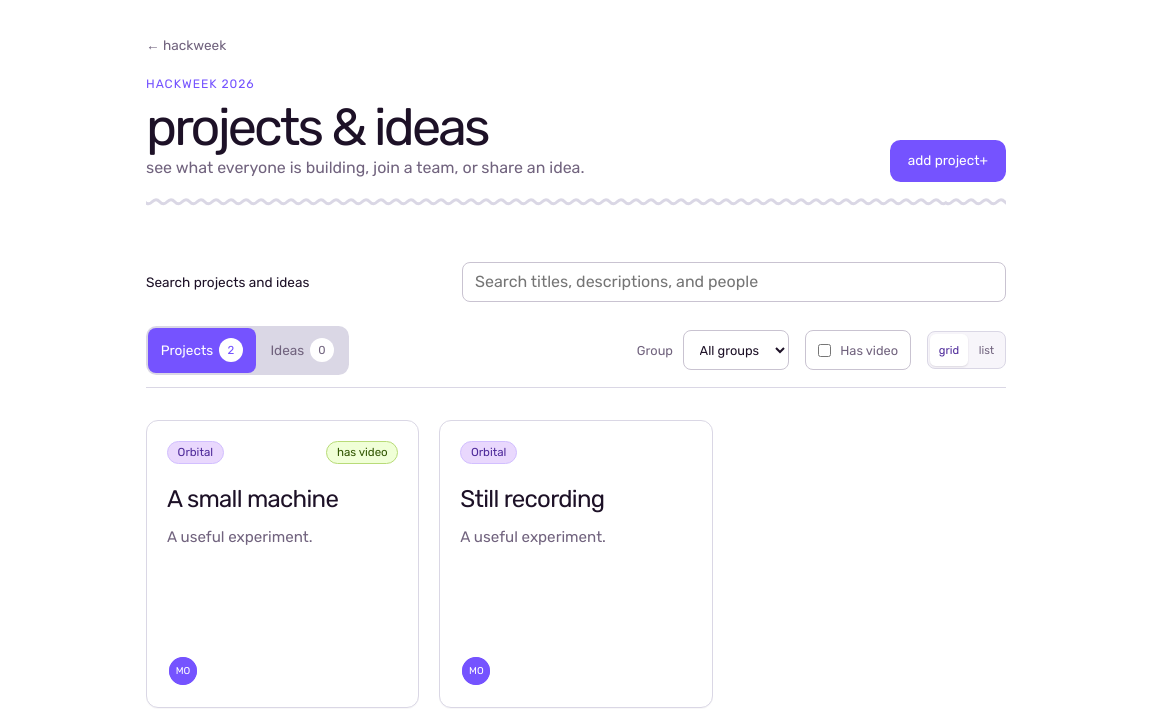
clickable project routes › marks playable videos in both views and preserves the video filter
This screenshot has width=1152, height=720.
Expected: the text "has video" is shown, [337,445,388,459]
Expected: the heading "Still recording" is shown, [460,485,604,513]
Click the button named "list view" at (986, 350), box [970,334,1003,366]
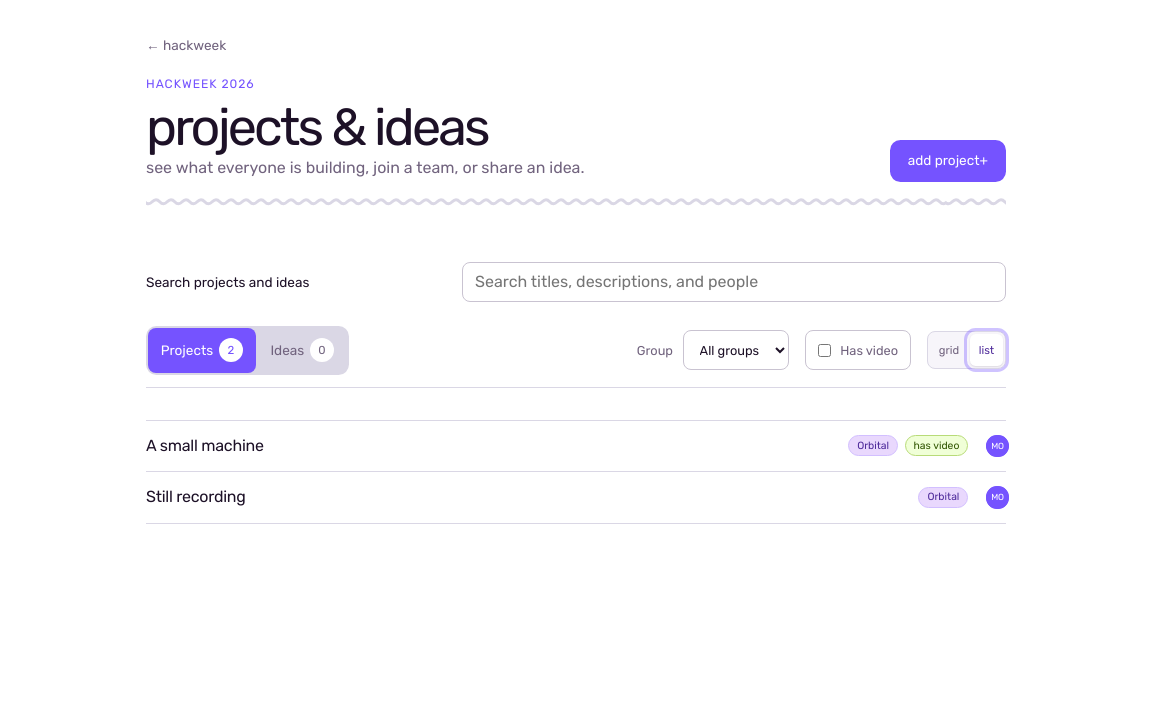
Now the text "has video" is shown, box [914,439,959,452]
Click the checkbox labelled "Has video" at (824, 350), box [818,344,831,357]
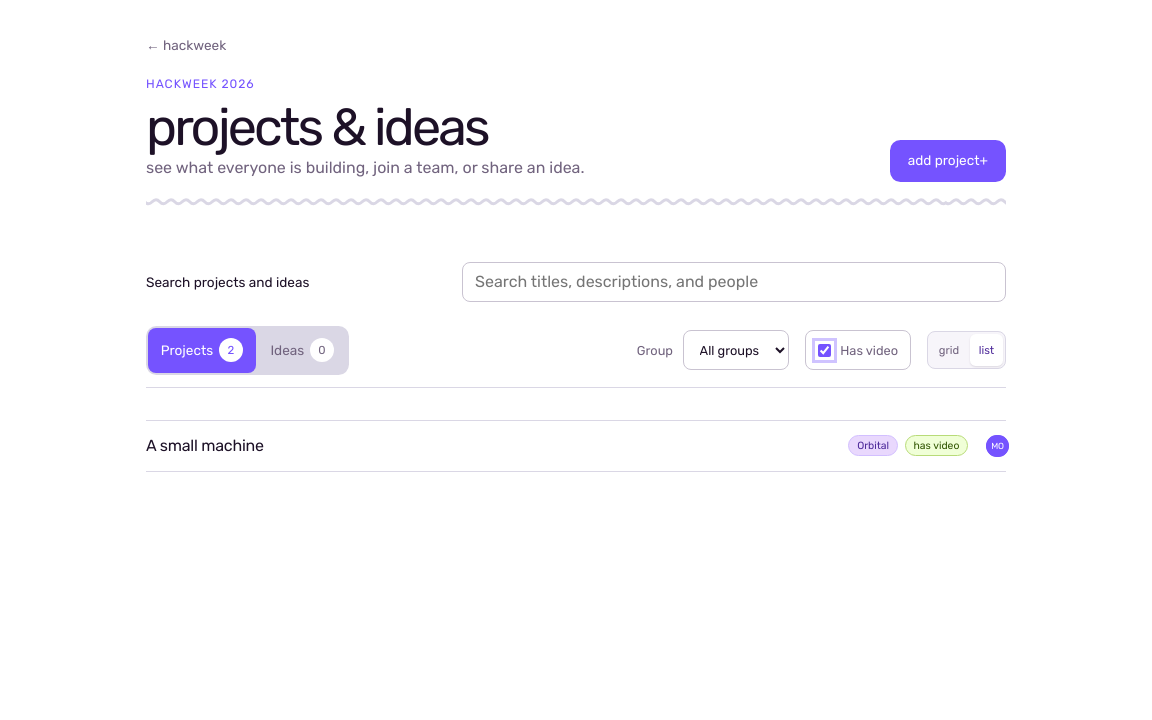
Expected: the heading "A small machine" is shown, [146,436,264,455]
Now the link "Still recording" is gone
Click the button "Ideas 0" at (302, 350), box [258,328,347,373]
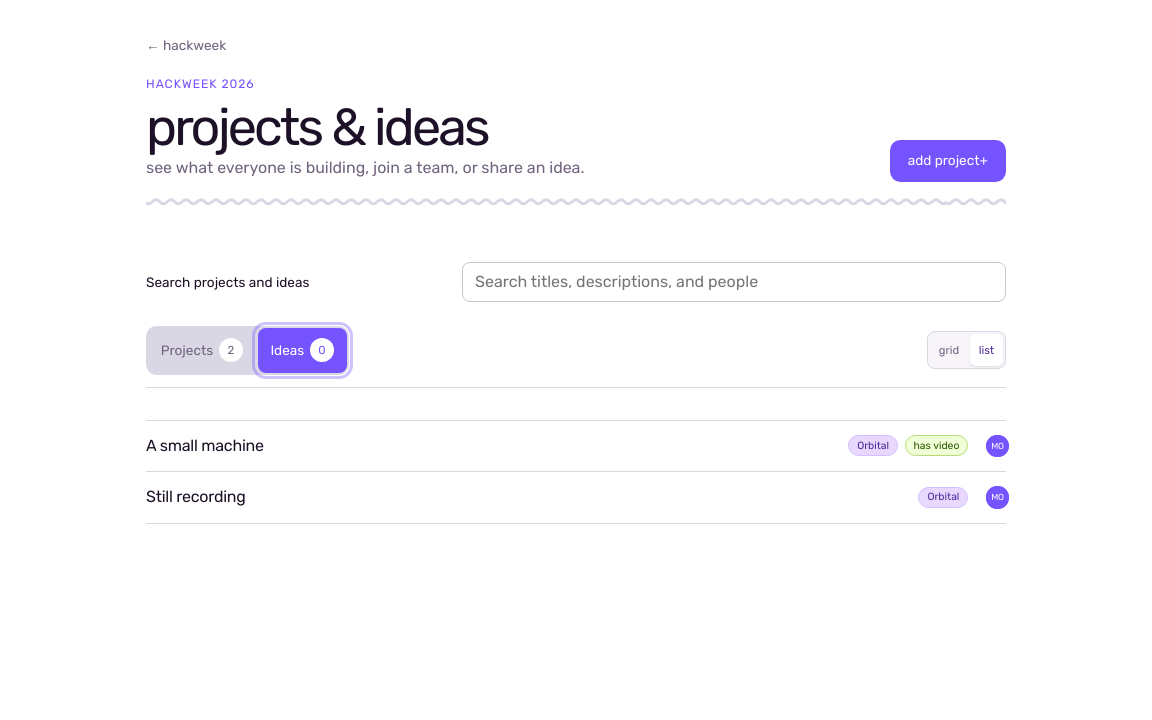
Click the button "Projects 2" at (202, 350), box [148,328,256,373]
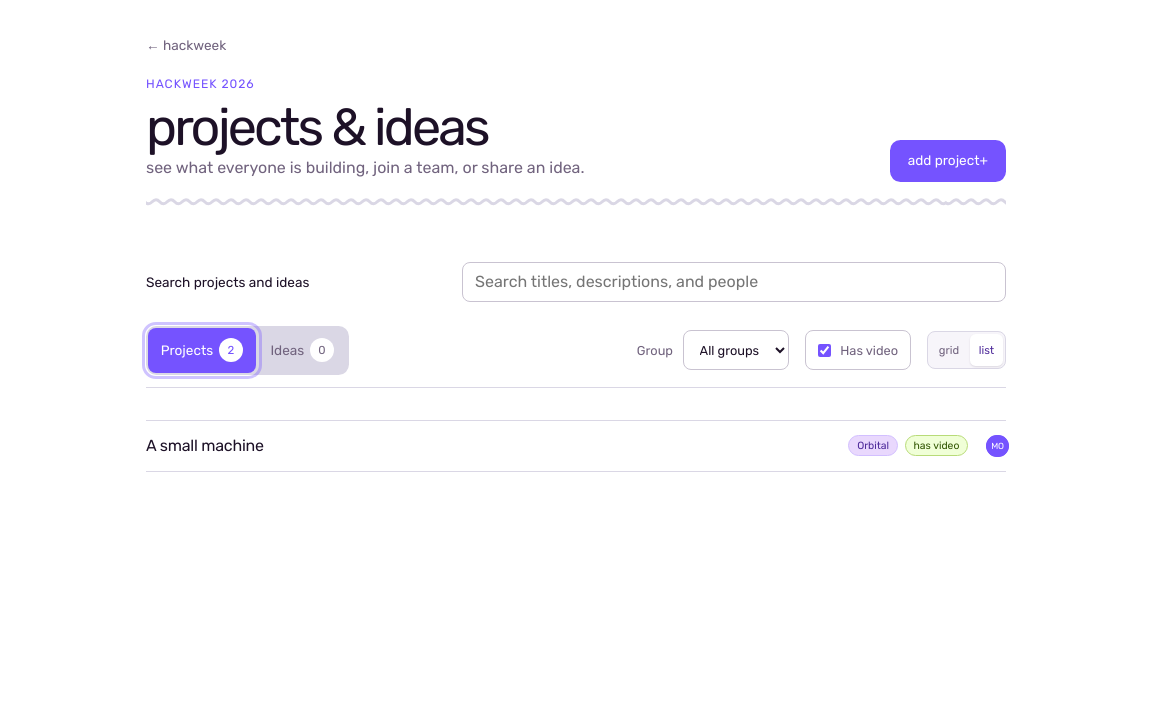
Now the checkbox labelled "Has video" is checked, box [818,344,831,357]
